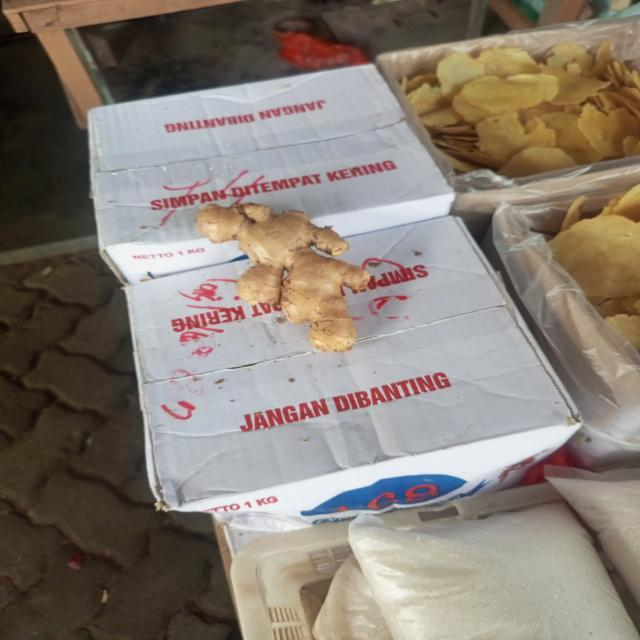ginger: (195, 198, 374, 349)
